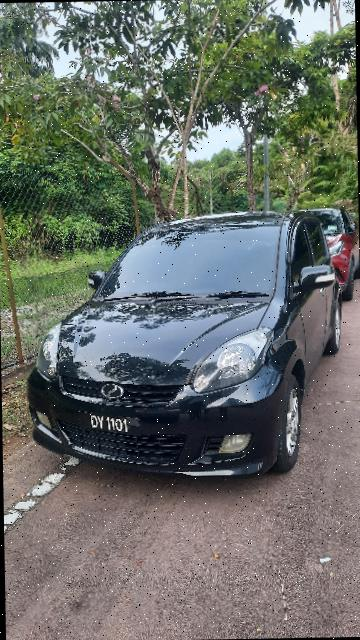License_Plate: (72, 411, 173, 444)
car: (29, 197, 346, 491)
